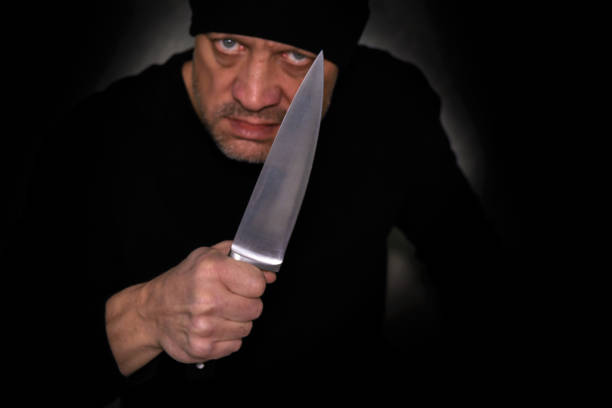knife: (227, 49, 325, 275)
